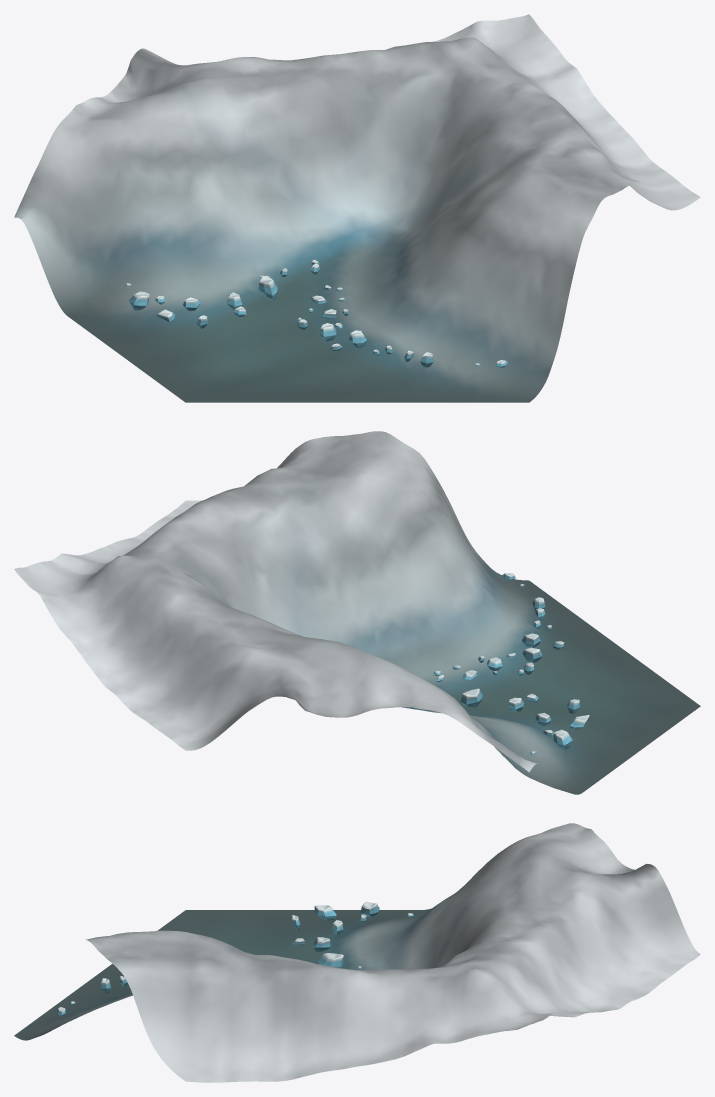
Rendered from costa_+00_-06.glb.
The picture shows the model from 3 angles, top to bottom: view 1: azimuth 30°, elevation 25°; view 2: azimuth 150°, elevation 25°; view 3: azimuth 270°, elevation 25°; orthographic projection.
Visible parts, largest first — view 1: terrain, Formações costeiras; view 2: terrain, Formações costeiras; view 3: terrain, Formações costeiras.
Boxes of the visible parts, box(x1,y1,x2,y2) form: terrain: box(14, 14, 700, 402); Formações costeiras: box(126, 259, 507, 367); terrain: box(14, 431, 700, 794); Formações costeiras: box(434, 573, 589, 754); terrain: box(14, 823, 700, 1082); Formações costeiras: box(57, 902, 413, 1016).
Bounding box in the file's own units: 4330 × 1238 × 5000.
Materials: 1 (1 with a texture image).
